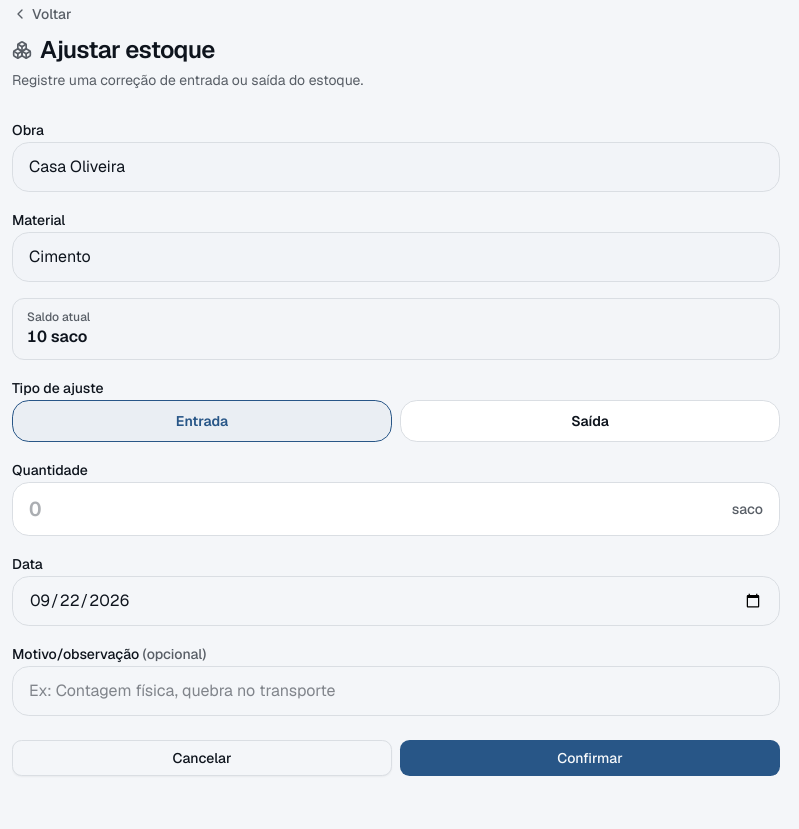
Test: AdjustStockForm — SUPPLY-FRONTEND-01D › SA3: a 422 balance/chronology error from the backend is shown verbatim, never locally reimplemented
Expected: the text "Saldo atual" is shown, [27, 309, 90, 325]
In the field labelled "Quantidade": (376, 509) [29, 495, 724, 523], type "999"
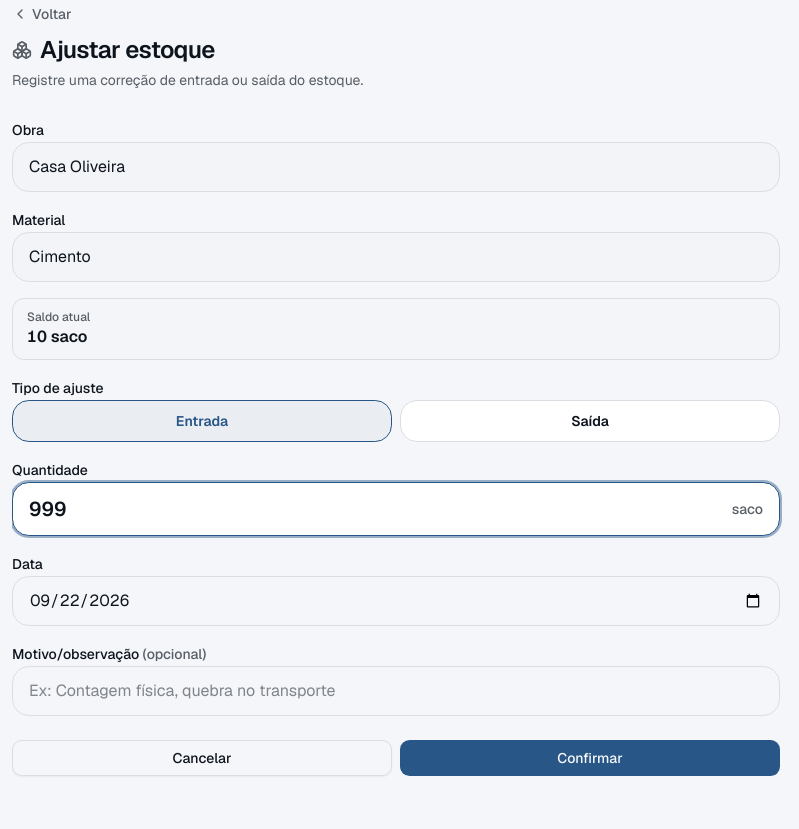
Click the button "Confirmar": (590, 758) [400, 740, 780, 776]
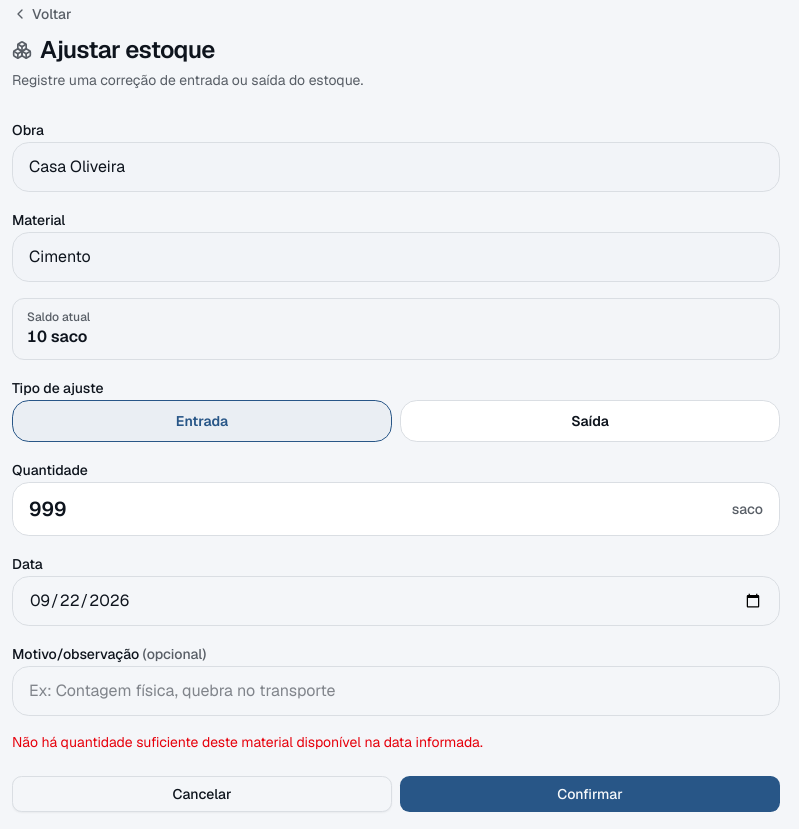
Expected: the text "Não há quantidade suficiente deste material disponível na data informada." is shown, [12, 733, 483, 751]
